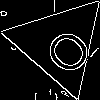O: (34, 19, 97, 79)
